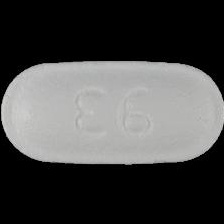53808-0932: (0, 0, 224, 224)
